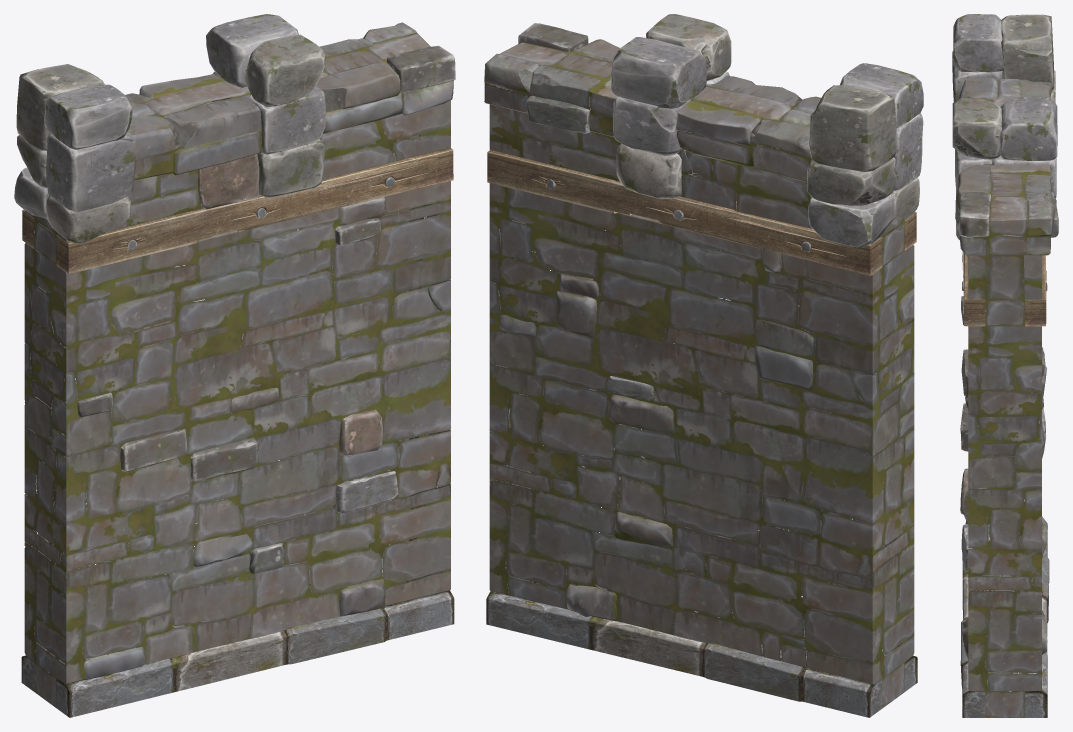
3 renders of one model, left to right at view 1: azimuth 30°, elevation 25°; view 2: azimuth 150°, elevation 25°; view 3: azimuth 270°, elevation 25°, orthographic. The views are drawn at different scales.
Parts seen in each view (by area): view 1: SM_Castle_Wall_4x6_01_v2_LOD0; view 2: SM_Castle_Wall_4x6_01_v2_LOD0; view 3: SM_Castle_Wall_4x6_01_v2_LOD0.
Boxes of the visible parts, <box> form: SM_Castle_Wall_4x6_01_v2_LOD0: <box>14,14,455,717</box>; SM_Castle_Wall_4x6_01_v2_LOD0: <box>484,14,923,717</box>; SM_Castle_Wall_4x6_01_v2_LOD0: <box>952,14,1058,717</box>.
Bounding box in the file's own units: 4.07 × 6.06 × 1.08.
6 materials, 6 textured.
